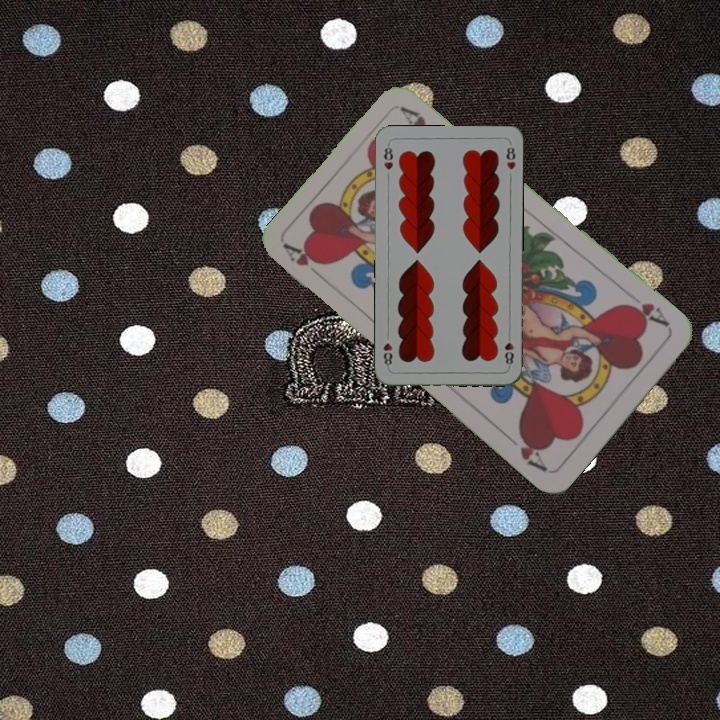H8: (501, 329, 516, 370), (380, 140, 396, 172)
HA: (280, 240, 330, 285), (620, 298, 673, 330)
